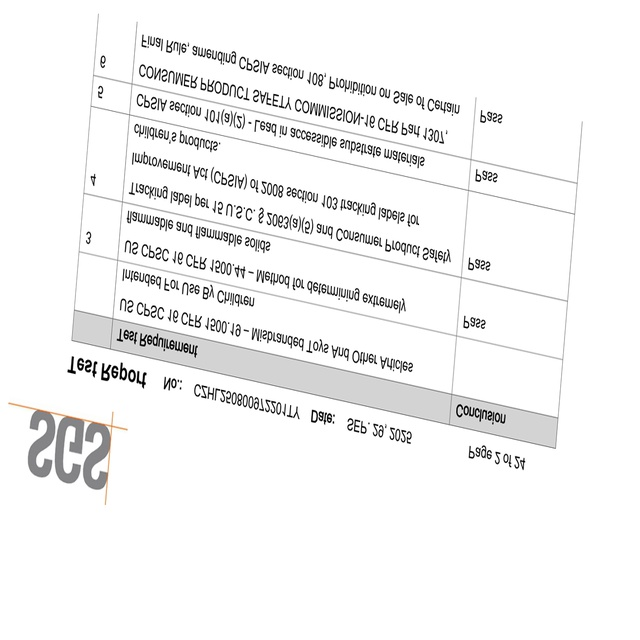sgs: (28, 408, 111, 491)
